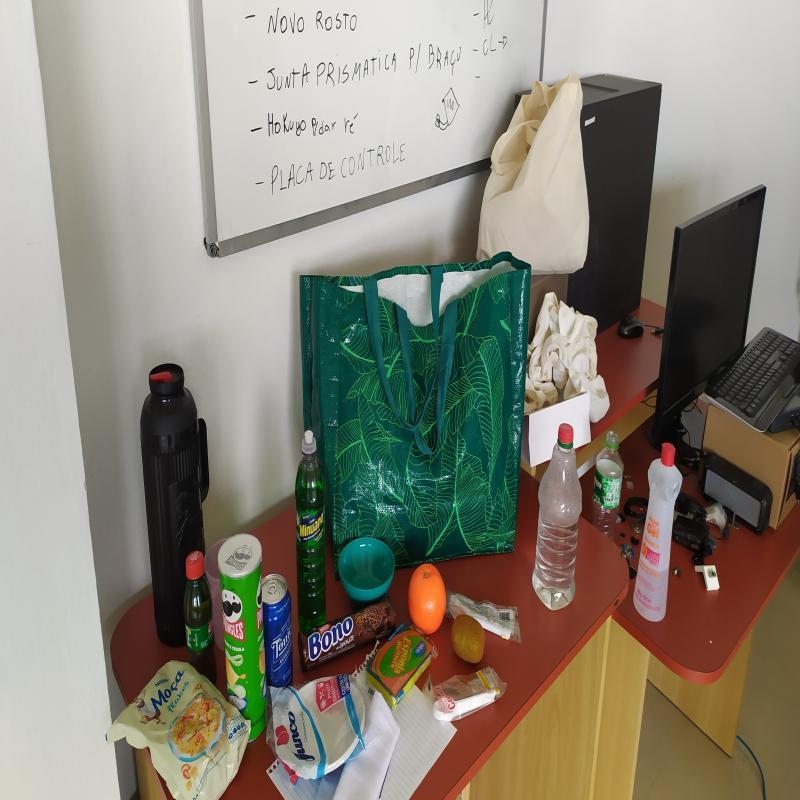Bag: (299, 247, 532, 576), (473, 66, 590, 282)
Bowl: (336, 537, 395, 601)
Cleaner: (293, 428, 328, 641)
Cookies: (301, 602, 392, 673)
CornFlakes: (111, 658, 254, 799)
Guarana: (183, 552, 215, 687)
Kiwi: (452, 613, 484, 665)
Orange: (407, 563, 446, 636)
Plate: (270, 673, 366, 778)
Pringles: (221, 533, 266, 741)
Sponge: (368, 619, 434, 712)
Tonic: (261, 573, 296, 702)
